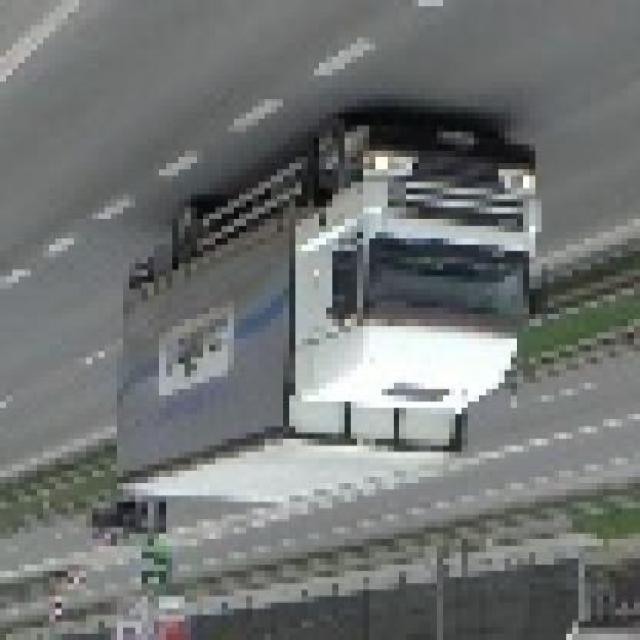truck: (124, 121, 567, 510)
